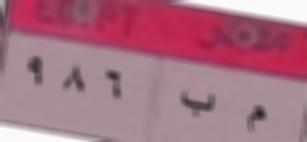6: (102, 66, 127, 103)
8: (60, 57, 87, 98)
9: (22, 48, 47, 93)
baa: (177, 79, 217, 123)
meem: (240, 92, 268, 142)
